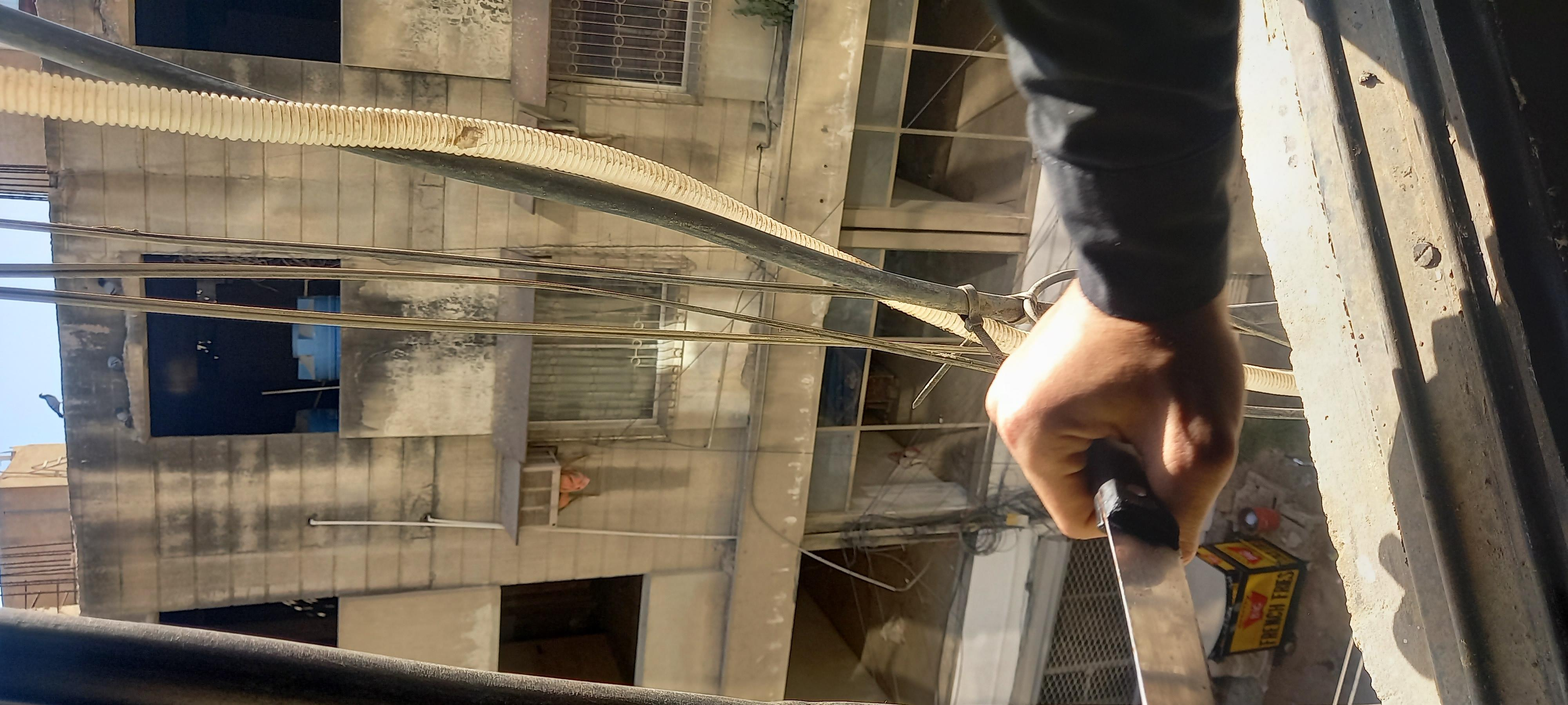knives: (1, 447, 739, 560)
